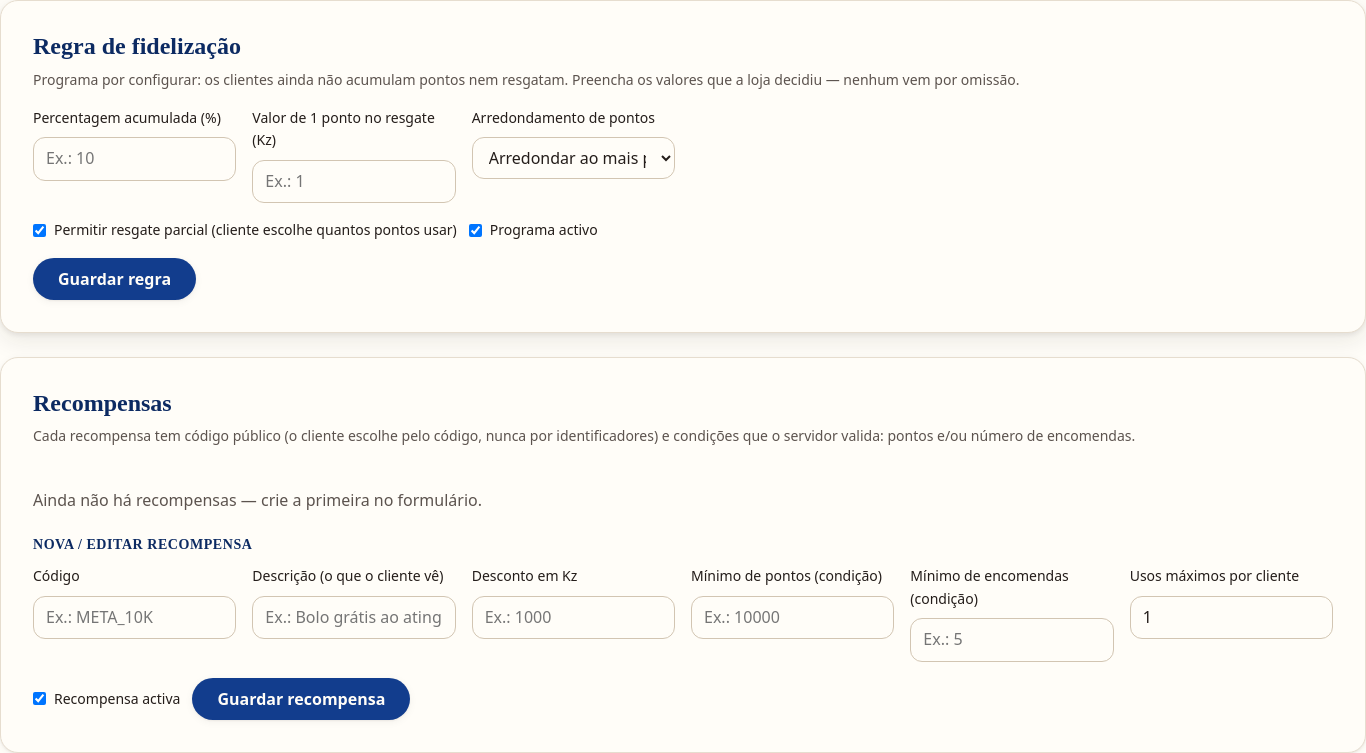
painel: fidelização › guardar a regra envia os valores ao servidor e o formulário reflecte o guardado
Expected: the text "Programa por configurar" is shown, [33,70,1020,89]
In the number field labelled "Percentagem acumulada (%)": (135, 159) [33,137,236,181], type "10"
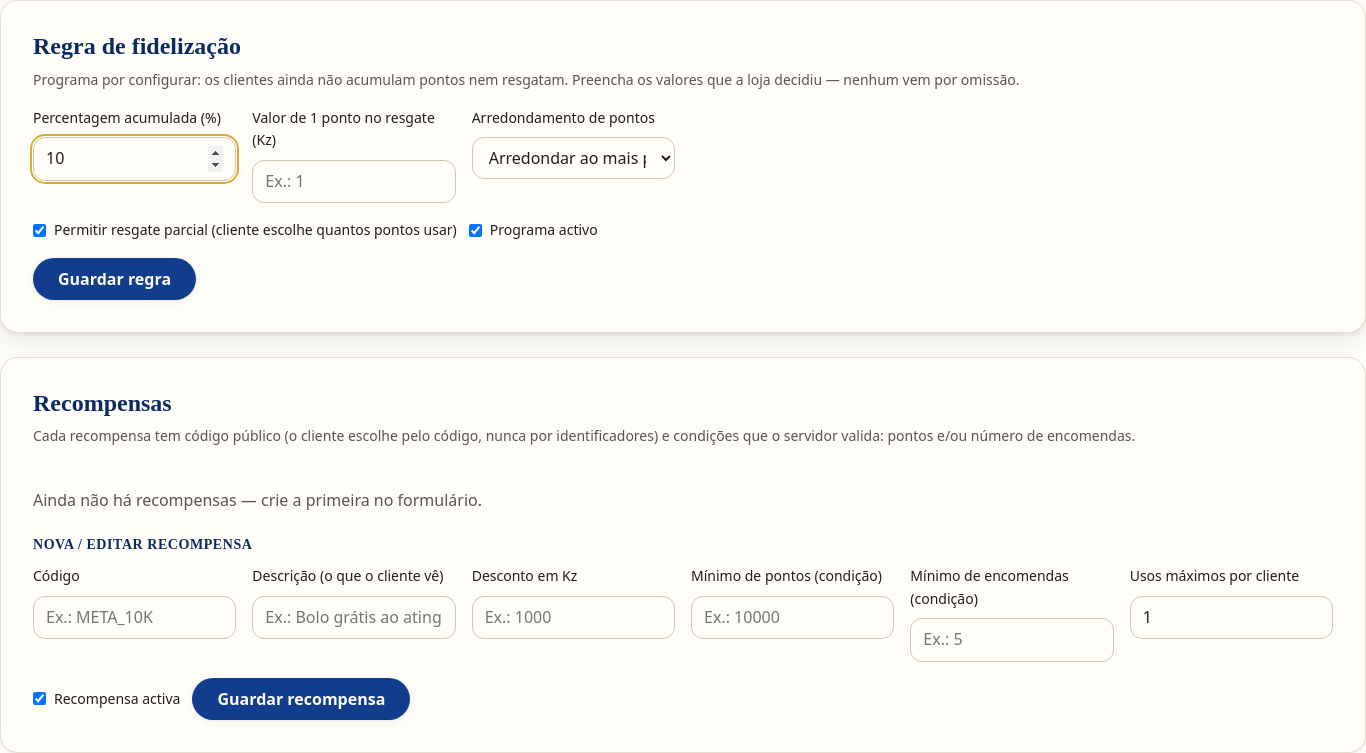
In the number field labelled "Valor de 1 ponto no resgate (Kz)": (354, 182) [252,160,456,203], type "1"
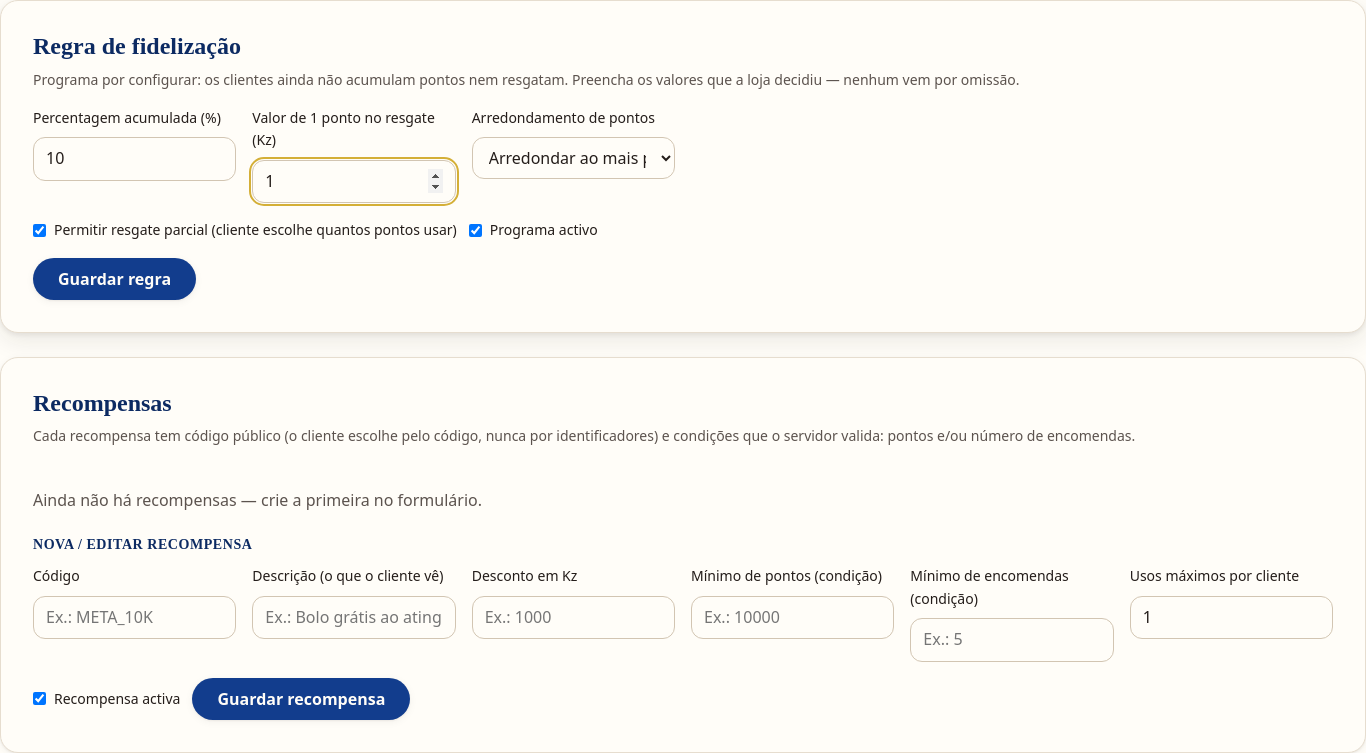
Click the button "Guardar regra": click(115, 279) [33,258,196,300]
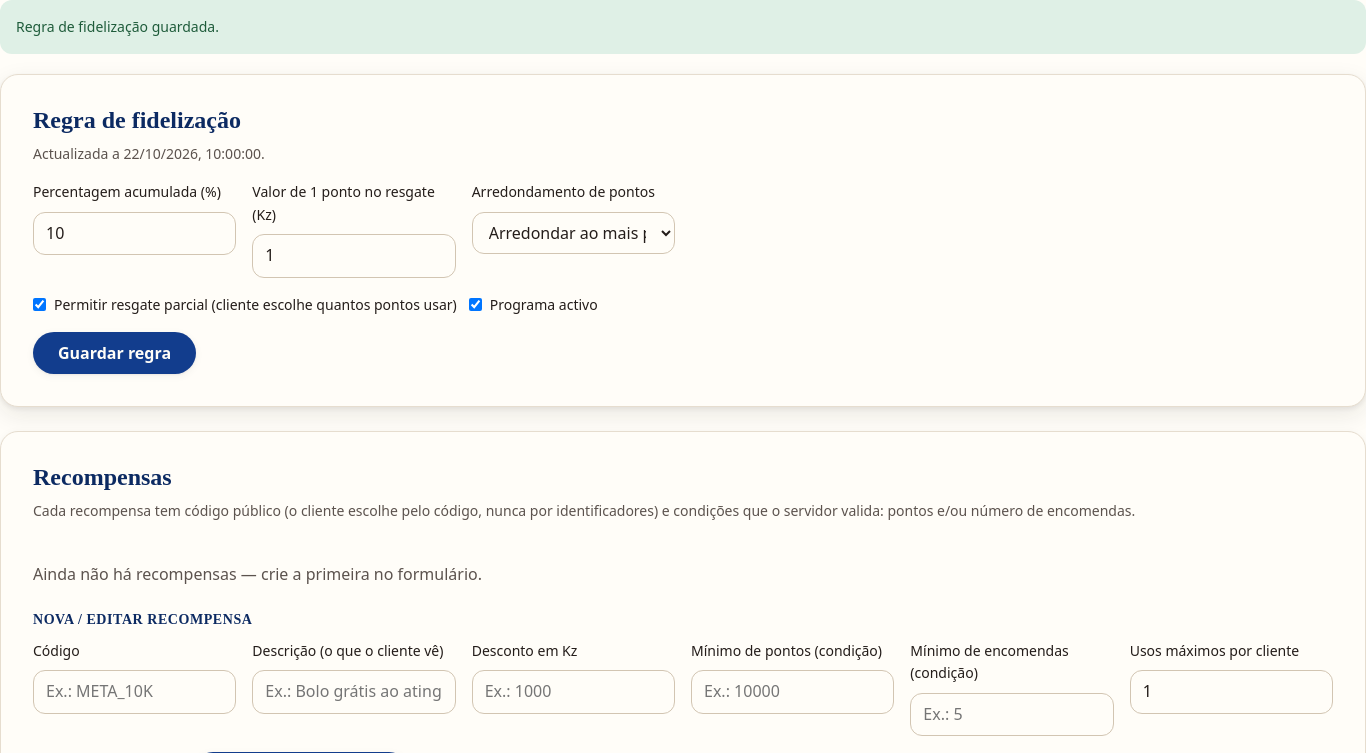
Now the message reads "Regra de fidelização guardada.", box [16,17,219,36]
